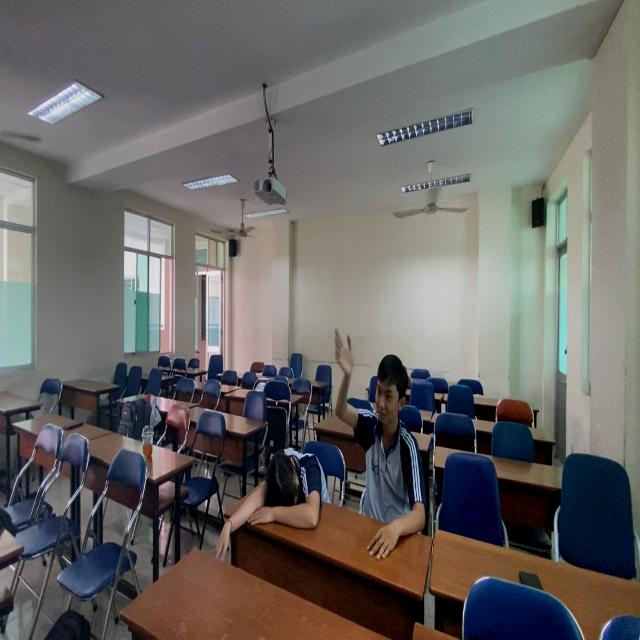raise_hand: (332, 320, 428, 559)
sleep: (241, 443, 329, 533)
